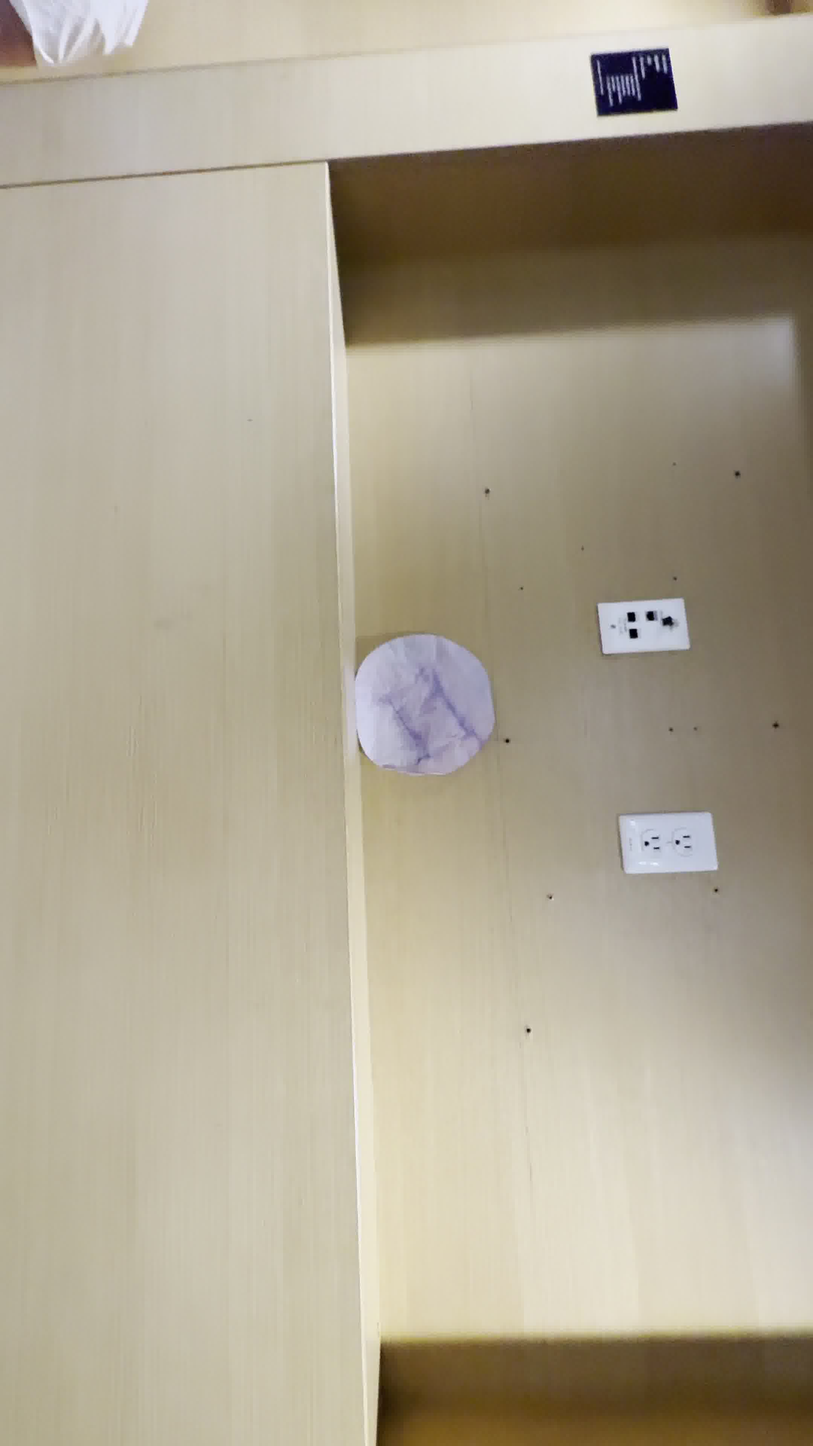Target: (352, 632, 492, 771)
